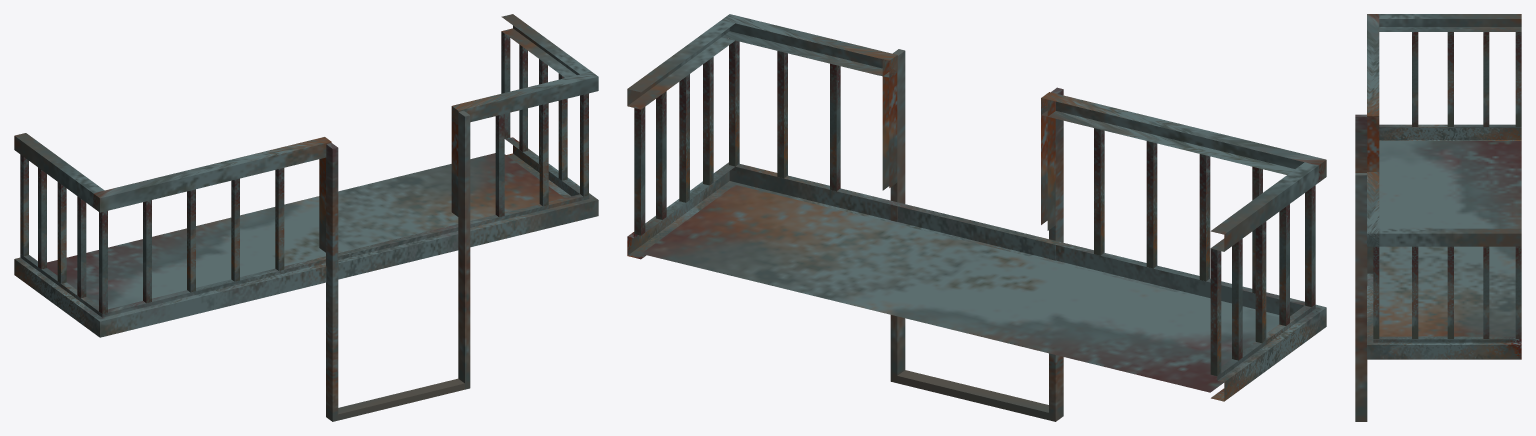
Rendered from VarandaGradePequenaComEscada.fbx.
3 views of the same model, side by side, from view 1: azimuth 30°, elevation 25°; view 2: azimuth 150°, elevation 25°; view 3: azimuth 270°, elevation 25° (orthographic). The views are drawn at different scales.
Visible parts, largest first — view 1: VarandaGradePequenaComEscada; view 2: VarandaGradePequenaComEscada; view 3: VarandaGradePequenaComEscada.
Part boxes in pixels (bbox=[...]): VarandaGradePequenaComEscada: bbox=[14, 14, 598, 421]; VarandaGradePequenaComEscada: bbox=[627, 14, 1326, 421]; VarandaGradePequenaComEscada: bbox=[1355, 14, 1521, 421].
Size of the model in its own units: 805 by 423 by 258.
